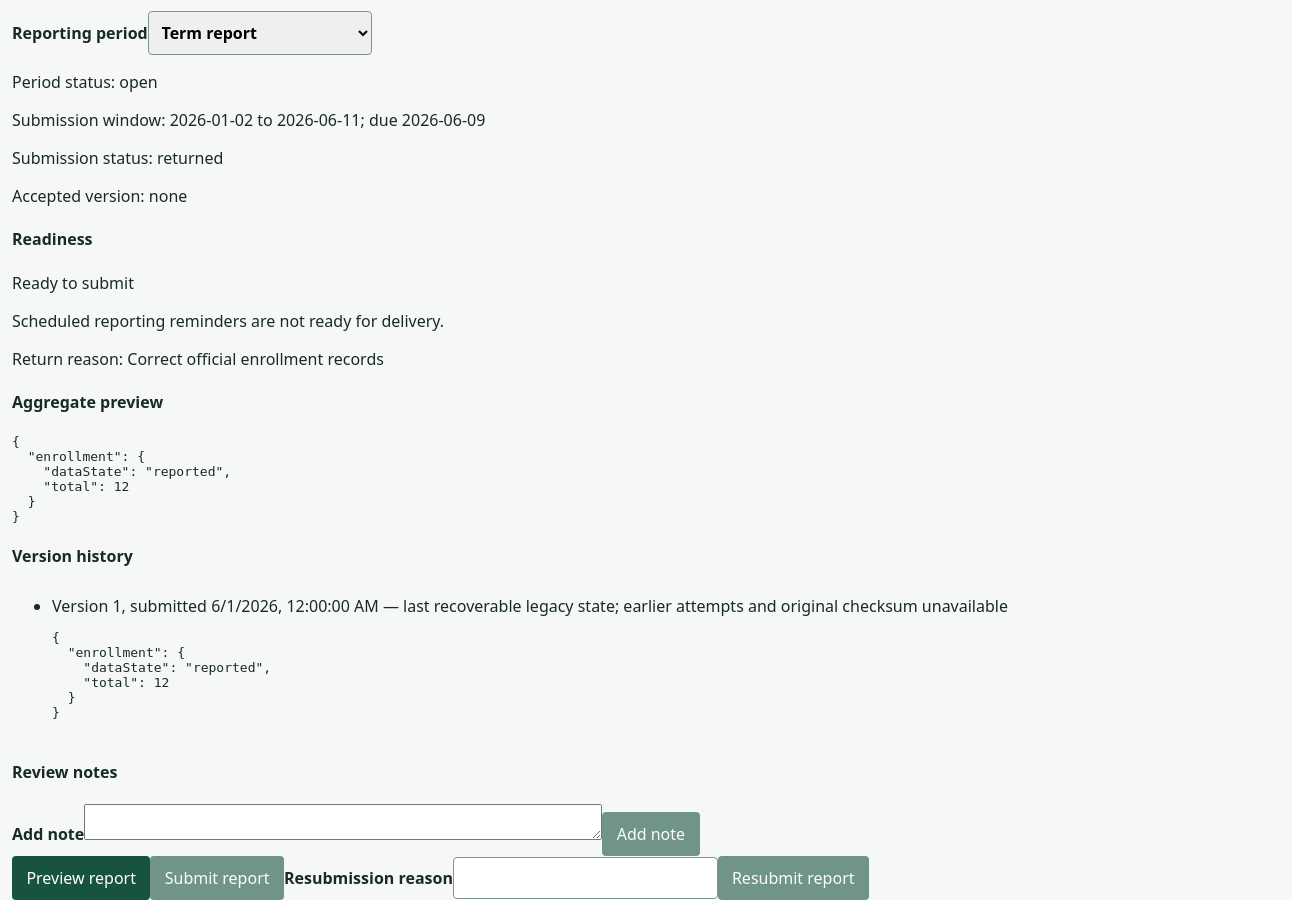
Test: reporting review workspaces › shows readiness and history, then resubmits a returned report with reason
(page scrolled)
Expected: the text "Submission status: returned" is shown, 12,147 -> 223,169
Expected: the text "Return reason: Correct official enrollment records" is shown, 12,348 -> 384,370
In the field labelled "Resubmission reason": [585, 878] box 453,857 -> 718,899, type "Corrected approved aggregate"
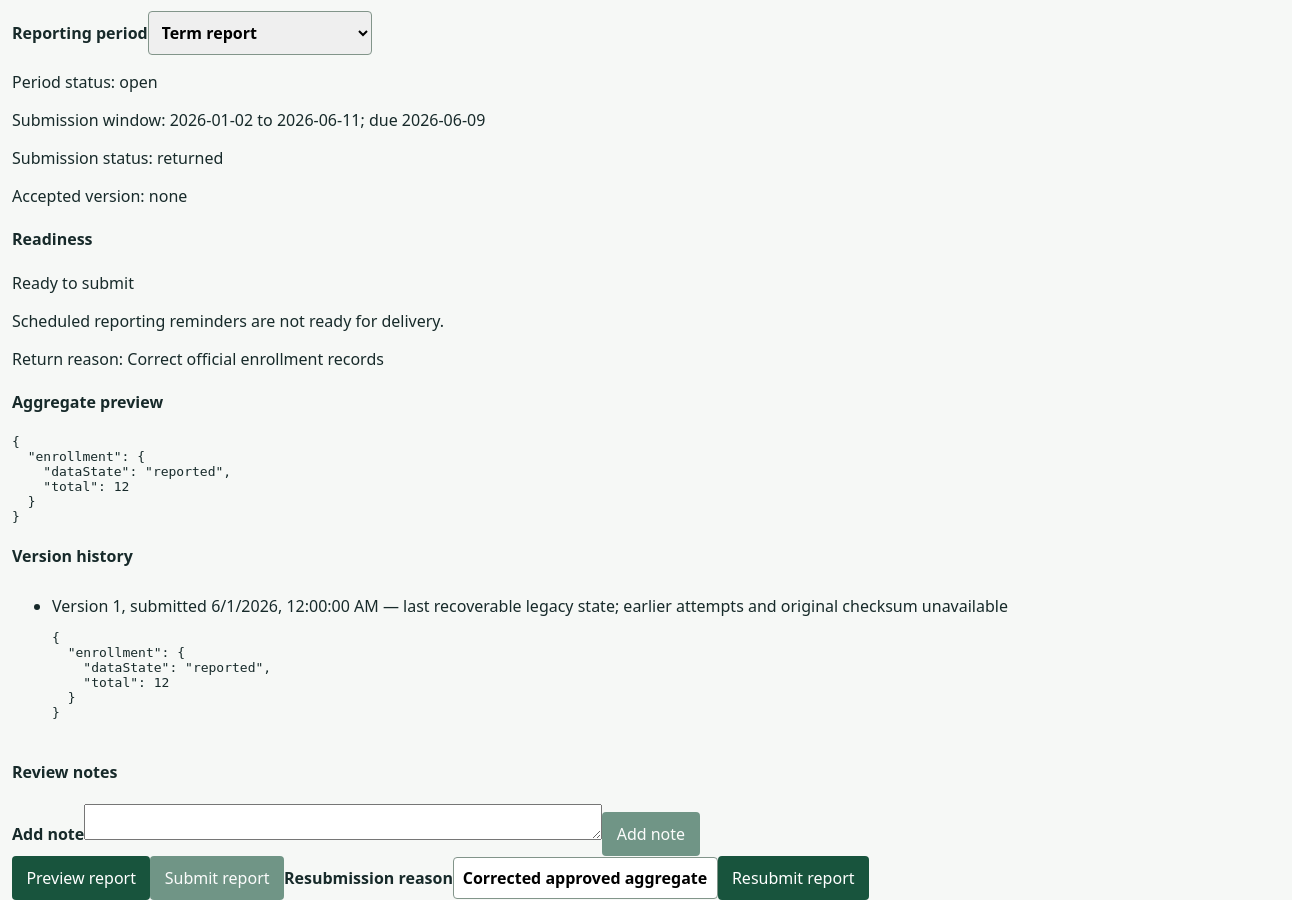
Click the button "Resubmit report": [793, 878] box 718,856 -> 869,899
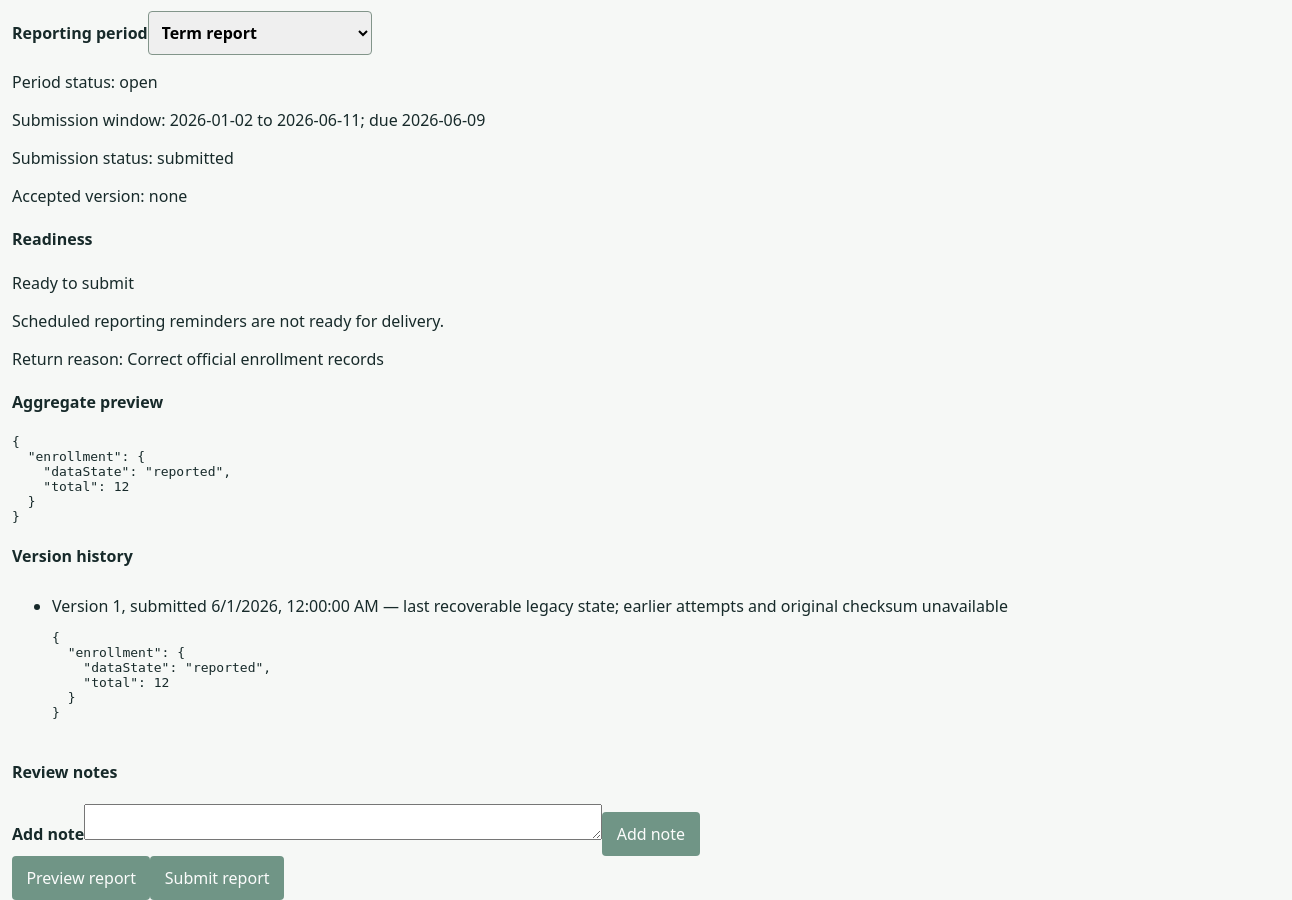
Expected: the text "Submission status: submitted" is shown, 12,147 -> 234,169
